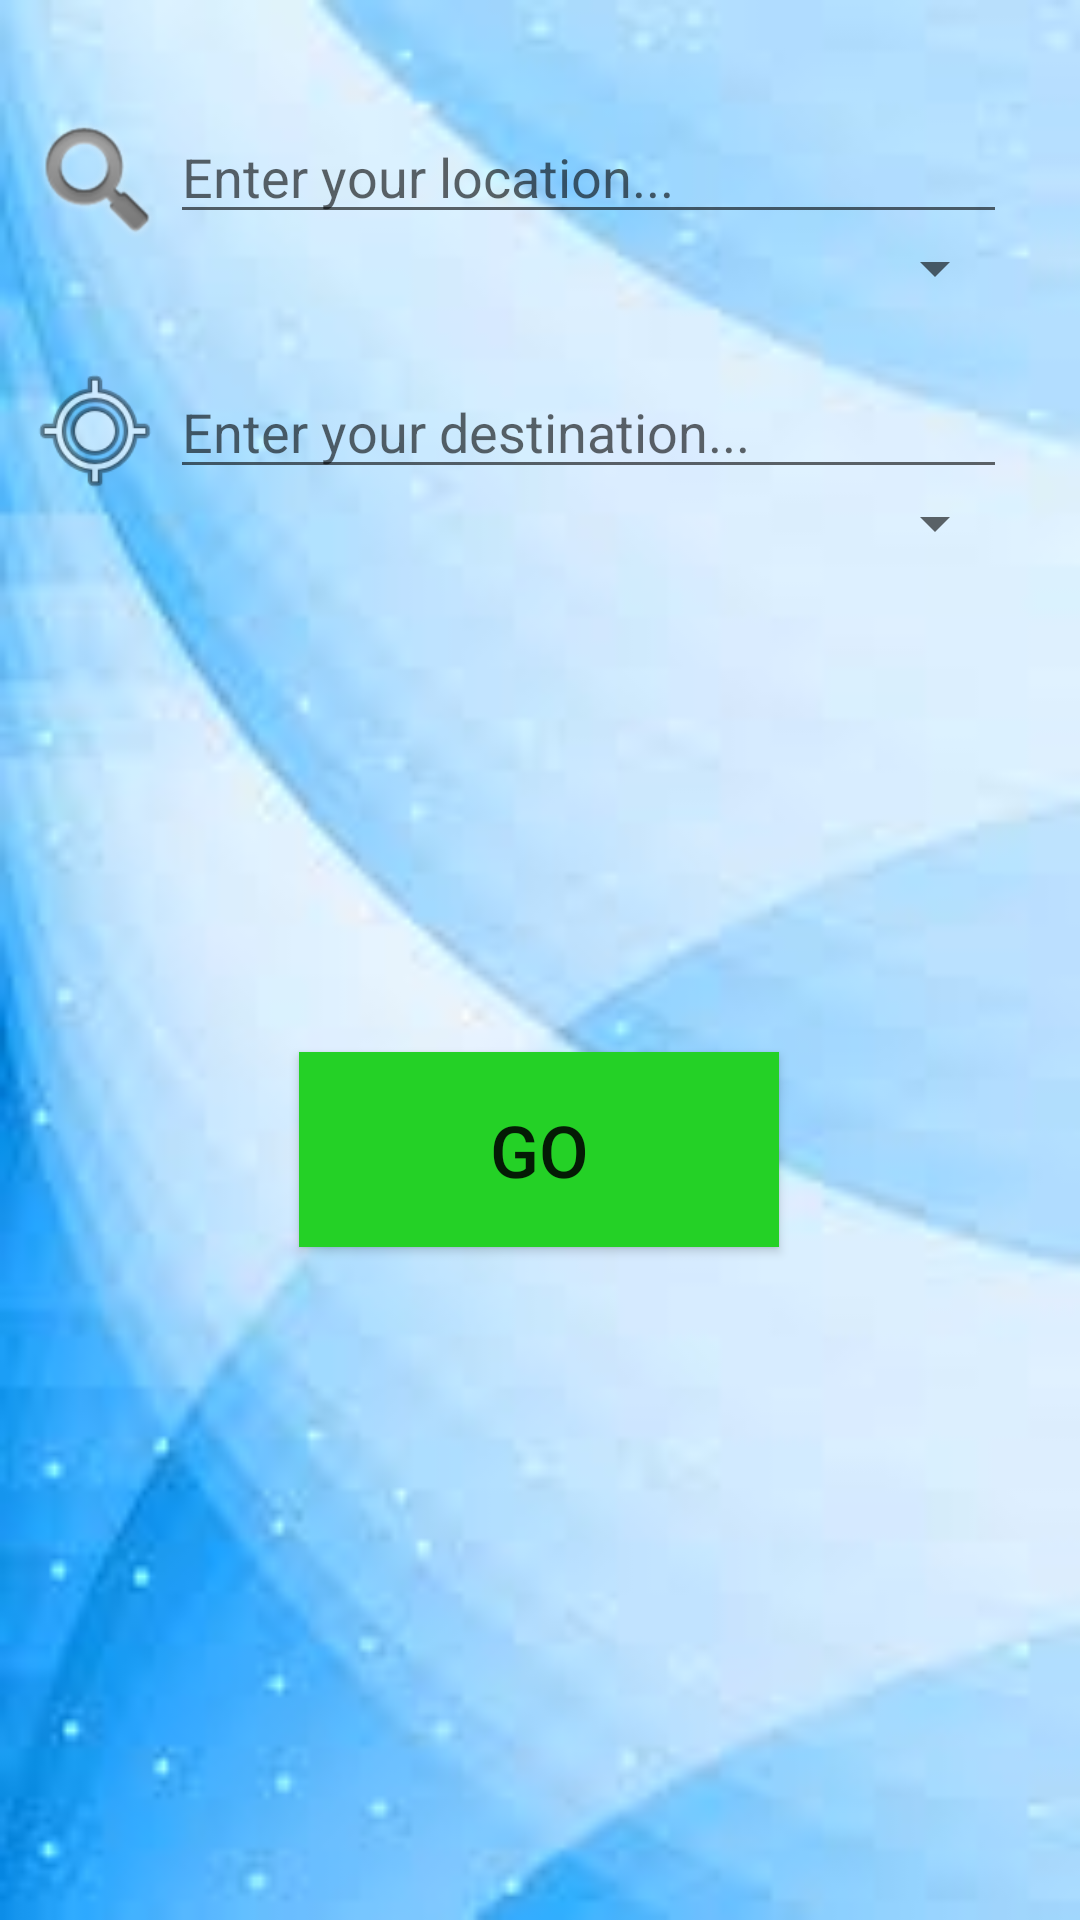

Point at icon controls on the screen. Image size 1080*1920, points as (x,y).
mylocation: (95,431)
search category: (98,182)
